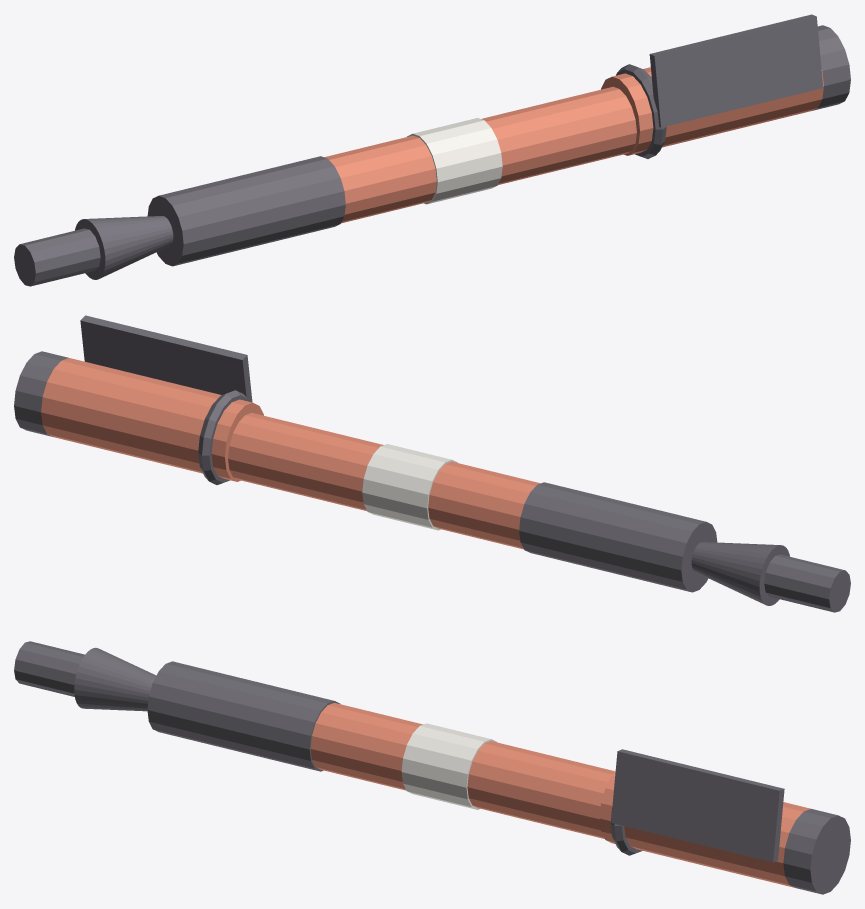
File: item_70_red_pen.glb
3 views of the same model, one above another, from view 1: azimuth 30°, elevation 25°; view 2: azimuth 150°, elevation 25°; view 3: azimuth 330°, elevation 25° (orthographic).
Visible parts, largest first — view 1: I70_Barrel, I70_Grip, I70_Clip, I70_Label, I70_Cap, I70_Nose, I70_Tip, I70_CapEnd, I70_CapRing; view 2: I70_Barrel, I70_Cap, I70_Grip, I70_Clip, I70_Label, I70_Nose, I70_Tip, I70_CapEnd, I70_CapRing; view 3: I70_Barrel, I70_Clip, I70_Grip, I70_Label, I70_Cap, I70_CapEnd, I70_Nose, I70_Tip.
Part boxes in pixels (x1,y1,x2,y2): I70_Barrel: (324, 86, 636, 223); I70_Grip: (147, 156, 345, 266); I70_Clip: (649, 14, 823, 127); I70_Label: (407, 118, 502, 204); I70_Cap: (601, 67, 823, 155); I70_Nose: (75, 216, 173, 279); I70_Tip: (14, 228, 100, 286); I70_CapEnd: (812, 25, 850, 110); I70_CapRing: (616, 64, 666, 158); I70_Barrel: (228, 413, 540, 549); I70_Cap: (41, 358, 263, 481); I70_Grip: (519, 482, 717, 592); I70_Clip: (80, 315, 252, 402); I70_Label: (362, 444, 457, 530); I70_Nose: (691, 542, 789, 605); I70_Tip: (764, 554, 850, 612); I70_CapEnd: (14, 351, 68, 436); I70_CapRing: (198, 390, 248, 484); I70_Barrel: (310, 702, 615, 838); I70_Clip: (611, 749, 784, 862); I70_Grip: (147, 661, 340, 771); I70_Label: (401, 723, 497, 809); I70_Cap: (599, 772, 810, 887); I70_CapEnd: (783, 809, 850, 894); I70_Nose: (74, 647, 156, 711); I70_Tip: (14, 641, 84, 696).
Size of the model in its own units: 0.149 by 0.0201 by 0.0158.
